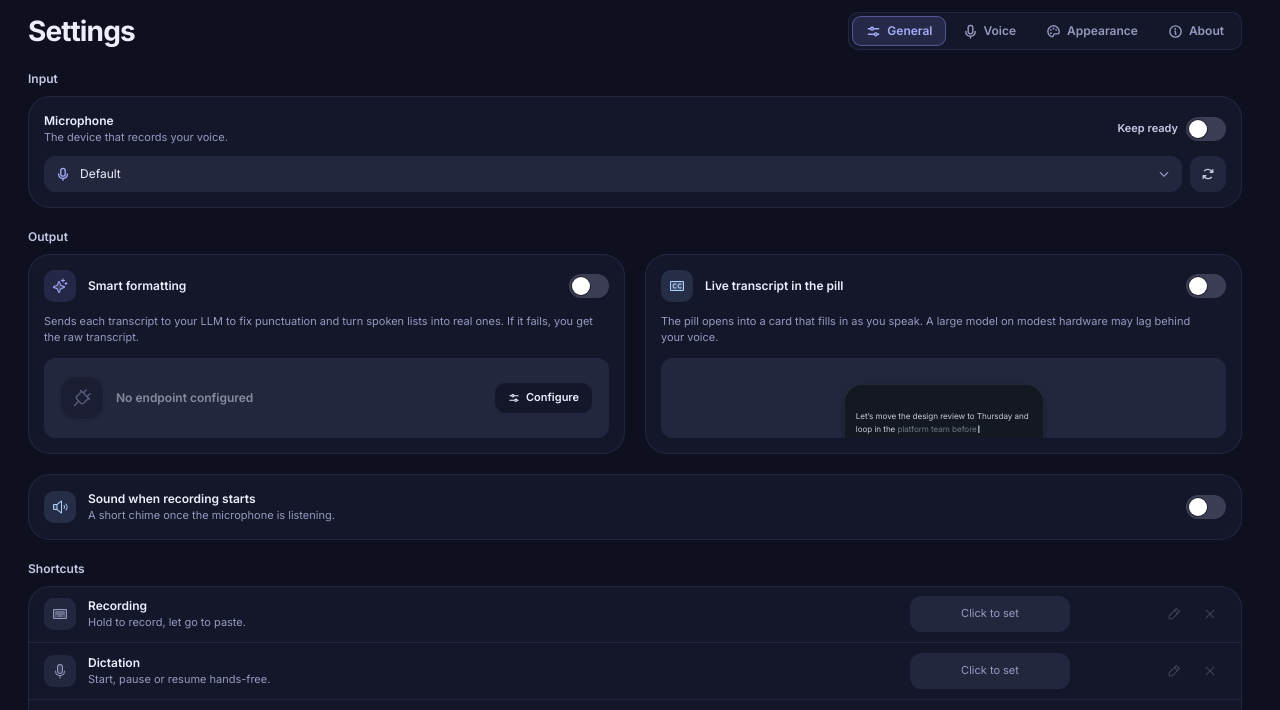
Test: HotkeySection › shows pressed keys while listening
Click the button with aria-label "click to record recording hotkey": (990,614) left=910, top=596, right=1070, bottom=632
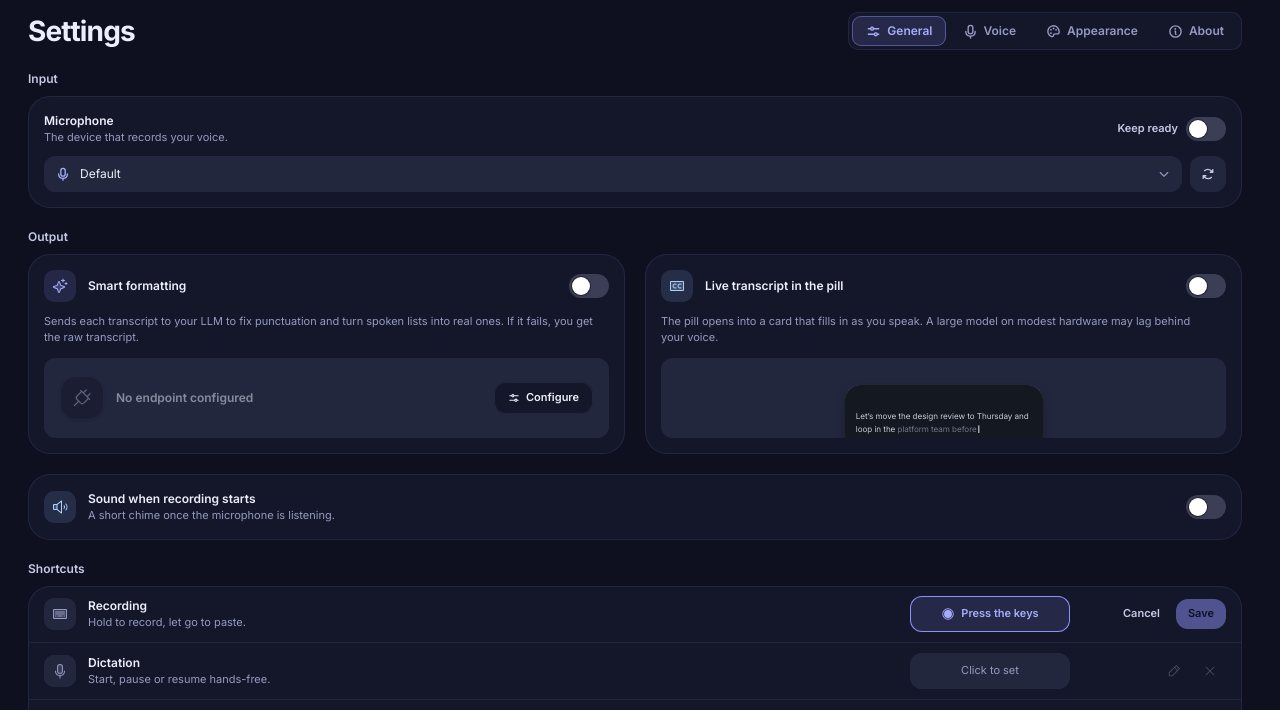
Press Control
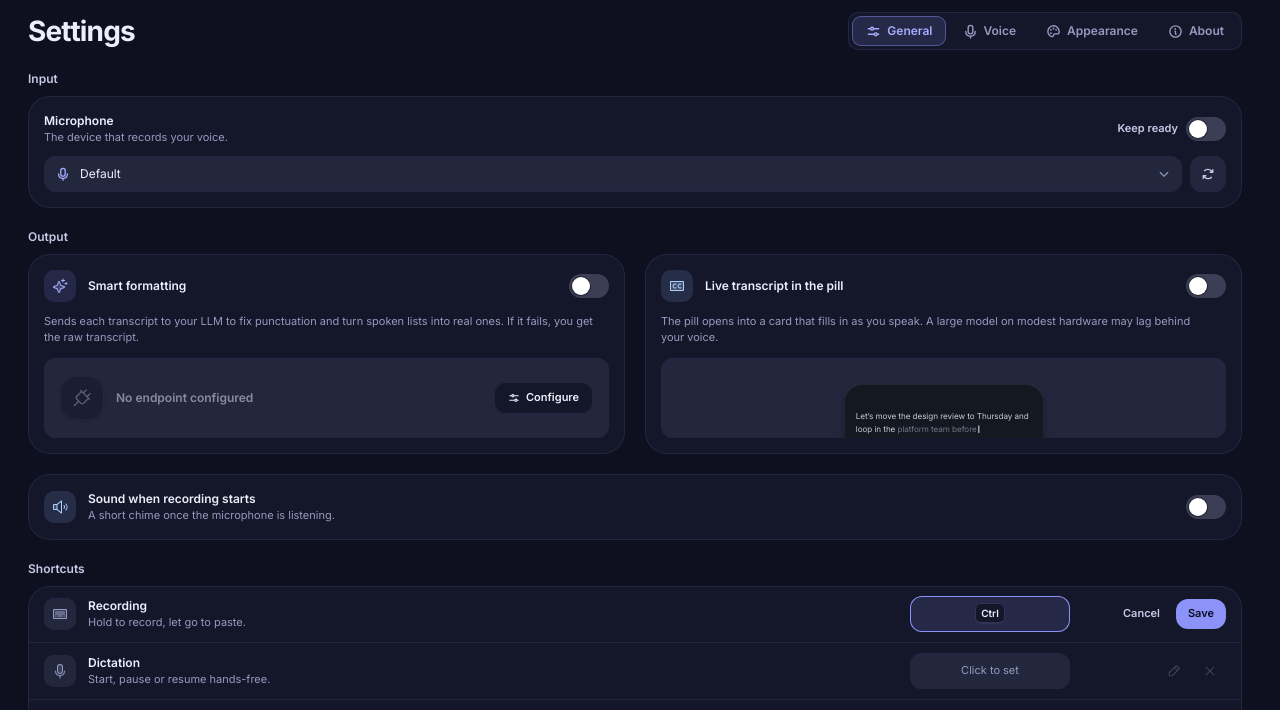
Press A
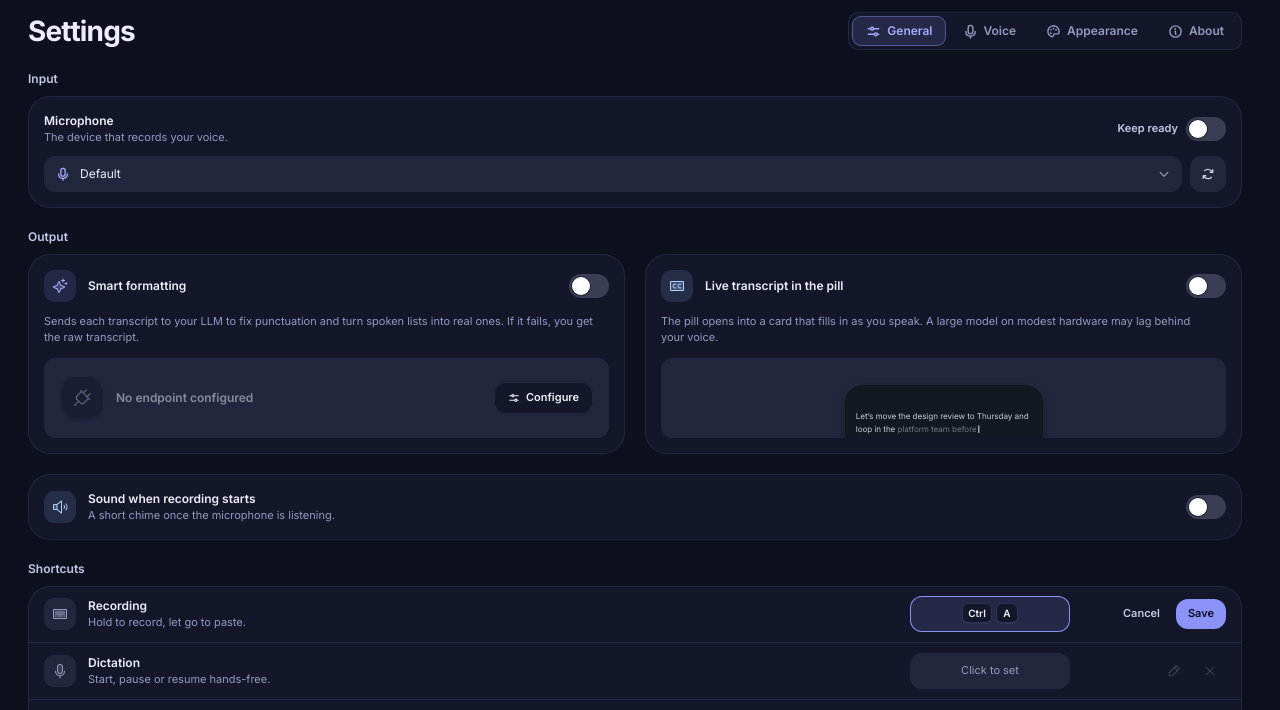
Expected: the text "Ctrl" is shown, left=962, top=603, right=992, bottom=624
Expected: the text "A" is shown, left=996, top=603, right=1018, bottom=624
